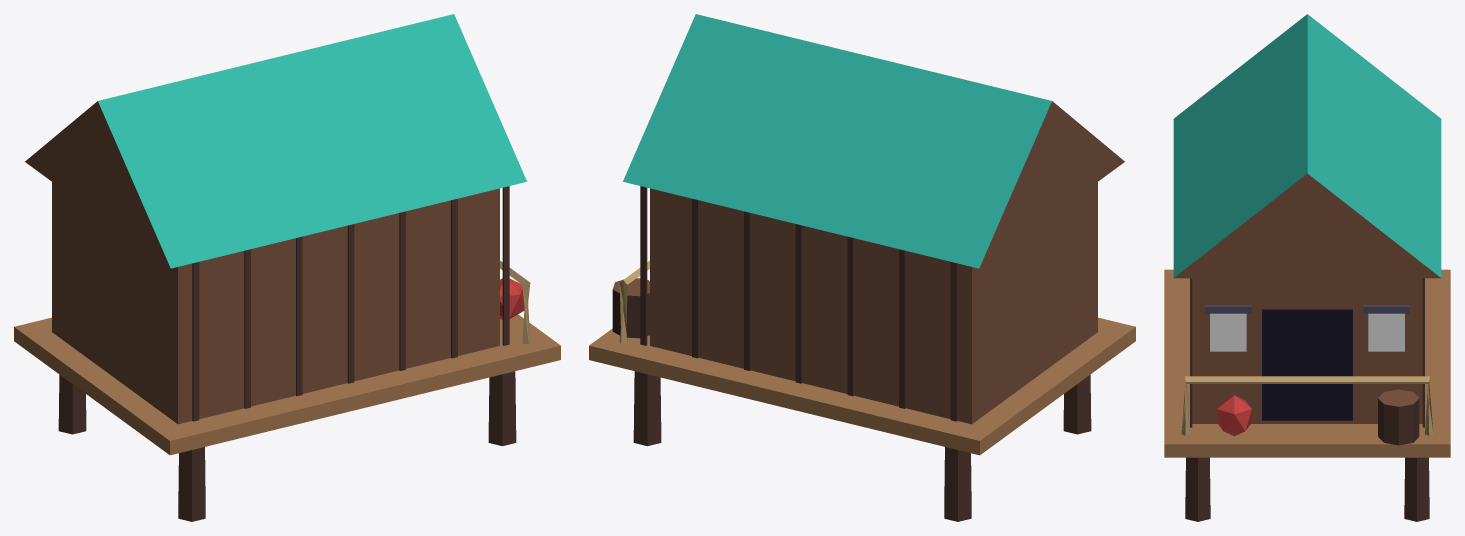
File: Set_Boathouse.fbx
3 views of the same model, side by side, from view 1: azimuth 30°, elevation 25°; view 2: azimuth 150°, elevation 25°; view 3: azimuth 270°, elevation 25° (orthographic). The views are drawn at different scales.
Parts seen in each view (by area): view 1: Set_Boathouse; view 2: Set_Boathouse; view 3: Set_Boathouse.
Boxes of the visible parts, x1=… form: Set_Boathouse: x1=14, y1=14, x2=560, y2=521; Set_Boathouse: x1=589, y1=14, x2=1135, y2=521; Set_Boathouse: x1=1164, y1=14, x2=1450, y2=521.
Size of what is drawn, in the model's own units: 6.84 by 6.3 by 4.7.
2 materials, 1 textured.
